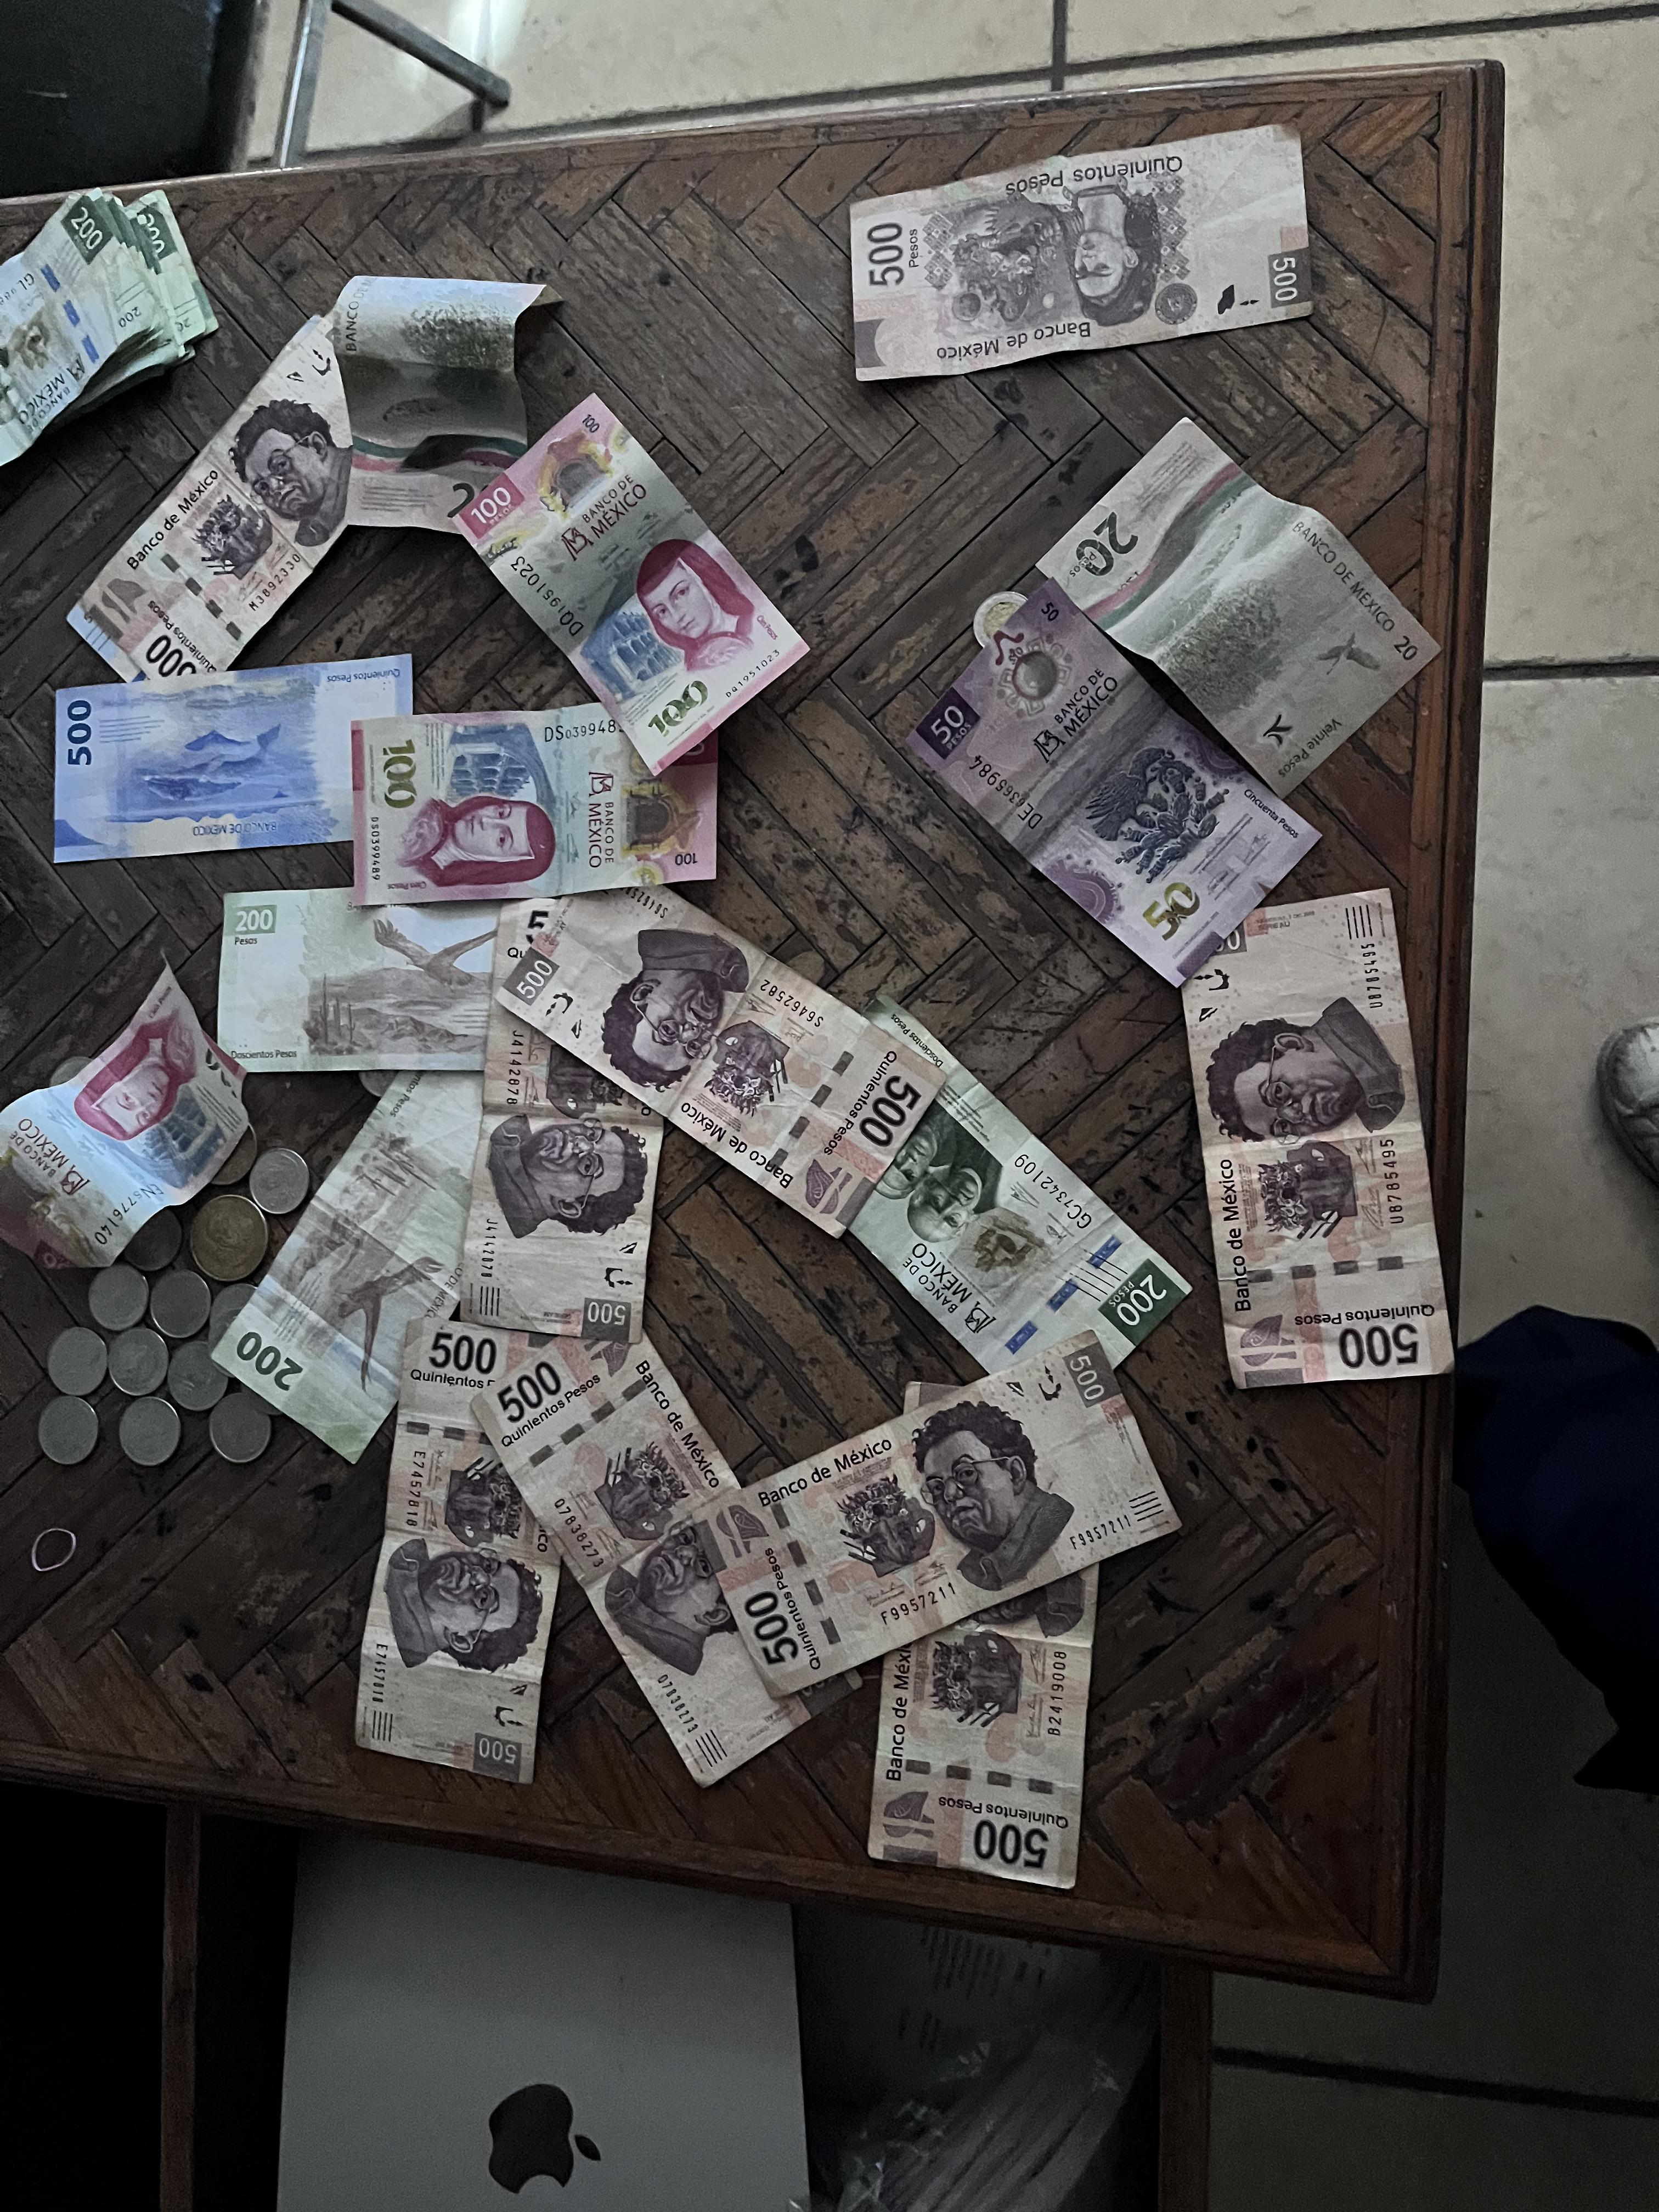100: (436, 390, 817, 768), (0, 965, 279, 1312), (326, 711, 782, 900)
20: (1037, 411, 1412, 789), (326, 253, 561, 549)
200: (735, 989, 1199, 1413), (211, 1040, 505, 1470), (200, 873, 638, 1076), (0, 197, 211, 455)
50: (889, 590, 1312, 989)
500: (1152, 892, 1493, 1421), (472, 1298, 830, 1796), (683, 1352, 1195, 1688), (512, 874, 941, 1254), (823, 115, 1347, 385), (310, 1291, 559, 1843), (58, 315, 441, 674), (836, 1430, 1103, 1912), (453, 888, 666, 1338)
500 nuevo: (42, 658, 443, 867)
